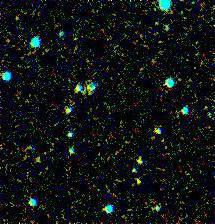star: (124, 166, 154, 196)
